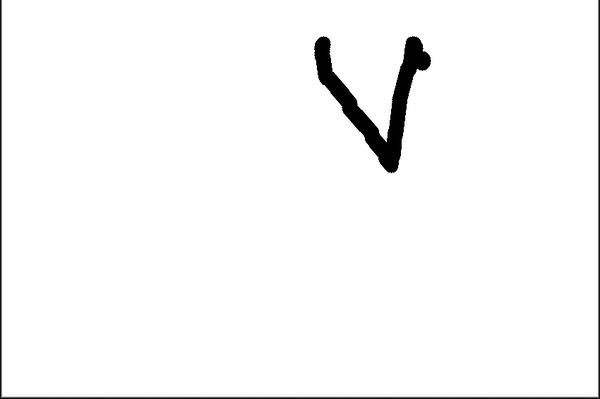V: (304, 23, 447, 170)
